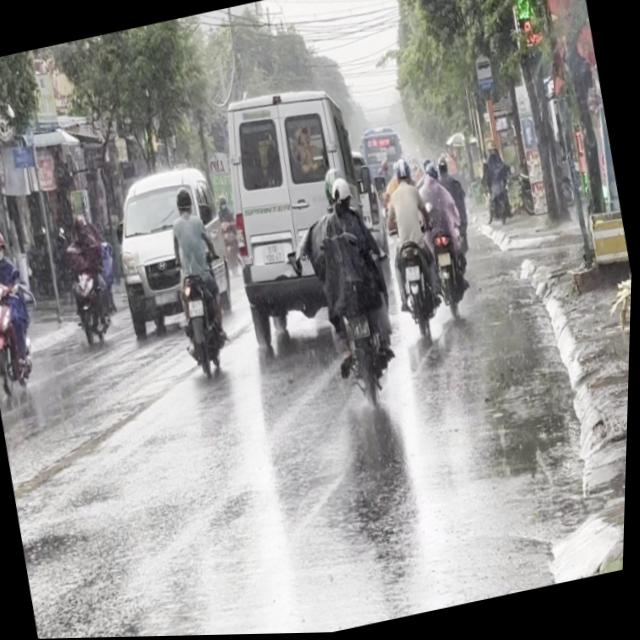helmet: (327, 174, 355, 213), (173, 186, 194, 215), (0, 228, 7, 258)
licenseplate: (296, 164, 414, 418), (153, 181, 240, 380), (0, 223, 52, 416)
nohelmet: (350, 317, 370, 339), (404, 266, 422, 283), (187, 298, 204, 316)
